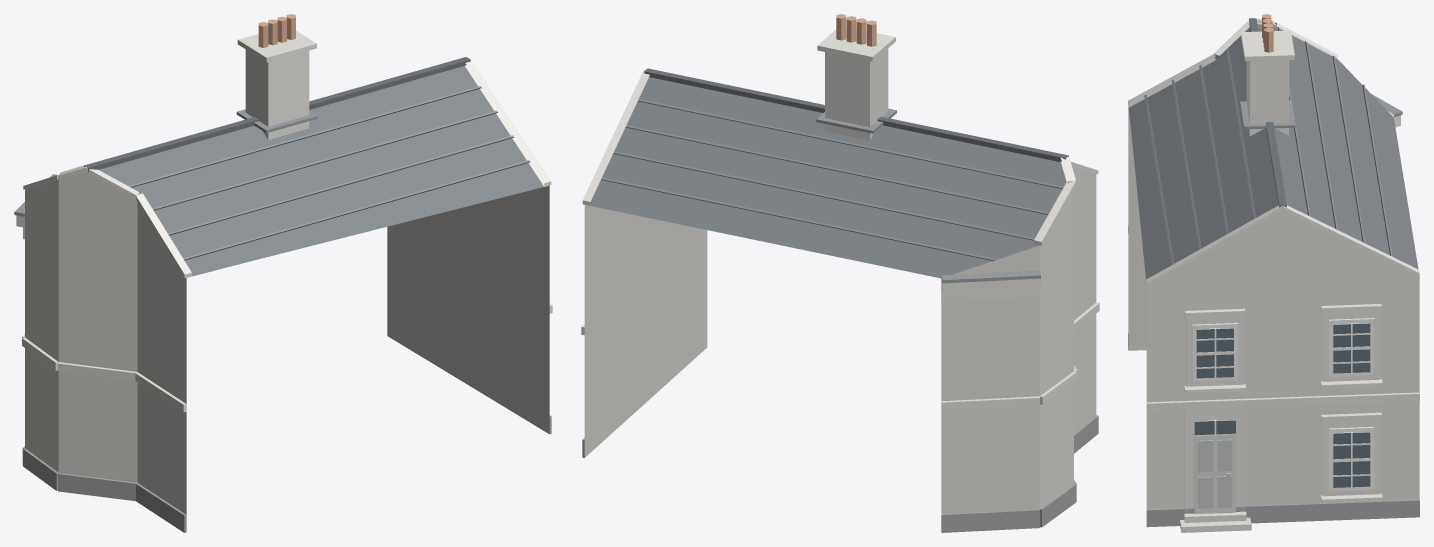
The picture shows the model from 3 angles, left to right: view 1: azimuth 30°, elevation 25°; view 2: azimuth 150°, elevation 25°; view 3: azimuth 270°, elevation 25°; orthographic projection. The views are drawn at different scales.
Visible parts, largest first — view 1: harl_grey, slate, string, slate_lt, chim_render, plinth, slate_dk, pot, lead; view 2: harl_grey, slate, string, slate_lt, chim_render, slate_dk, plinth, lead, pot; view 3: harl_grey, slate, string, slate_lt, frame, plinth, chim_render, door_cad_p, window_glass_003, window_glass_004, window_glass_002, door_cad (+4 smaller).
Part boxes in pixels (<box>): harl_grey: <box>25,171,549,514</box>; slate: <box>99,66,543,276</box>; string: <box>16,30,552,412</box>; slate_lt: <box>128,86,530,260</box>; chim_render: <box>245,49,309,139</box>; plinth: <box>22,415,551,532</box>; slate_dk: <box>84,57,470,172</box>; pot: <box>258,14,295,47</box>; lead: <box>14,109,317,216</box>; harl_grey: <box>584,166,1096,513</box>; slate: <box>590,77,1066,278</box>; string: <box>581,27,1099,410</box>; slate_lt: <box>601,99,1063,261</box>; chim_render: <box>825,48,888,140</box>; slate_dk: <box>644,68,1068,162</box>; plinth: <box>582,415,1098,532</box>; lead: <box>816,108,1040,283</box>; pot: <box>836,14,876,46</box>; harl_grey: <box>1128,108,1419,509</box>; slate: <box>1128,24,1418,279</box>; string: <box>1128,17,1419,532</box>; slate_lt: <box>1144,27,1392,264</box>; frame: <box>1192,318,1374,491</box>; plinth: <box>1128,333,1419,527</box>; chim_render: <box>1246,60,1289,136</box>; door_cad_p: <box>1198,439,1231,508</box>; window_glass_003: <box>1333,432,1370,487</box>; window_glass_004: <box>1333,323,1370,373</box>; window_glass_002: <box>1196,328,1233,378</box>; door_cad: <box>1194,435,1235,513</box>.
Bounding box in the file's own units: 12 × 10.78 × 7.05.
